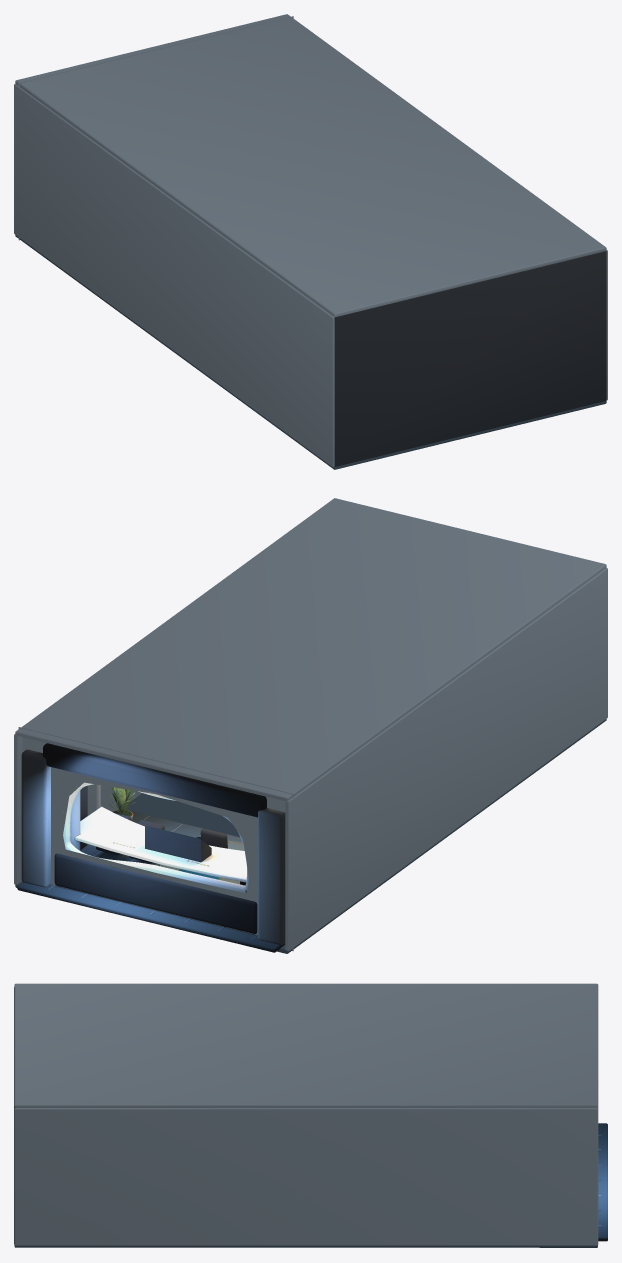
Rendered from spacefolio-lite.glb.
3 renders of one model, top to bottom at view 1: azimuth 30°, elevation 25°; view 2: azimuth 150°, elevation 25°; view 3: azimuth 270°, elevation 25°, orthographic. The views are drawn at different scales.
Visible parts, largest first — view 1: ShipHull; view 2: ShipHull, CabinShell, ConsoleBody; view 3: ShipHull, CabinShell.
Boxes of the visible parts, x1=… form: ShipHull: x1=14, y1=14, x2=607, y2=469; ShipHull: x1=14, y1=498, x2=607, y2=953; CabinShell: x1=17, y1=743, x2=285, y2=952; ConsoleBody: x1=145, y1=826, x2=211, y2=862; ShipHull: x1=14, y1=983, x2=598, y2=1247; CabinShell: x1=598, y1=1123, x2=607, y2=1241.
Size of the model in its own units: 14.94 by 8.65 by 30.51.
2 materials, 1 textured.
